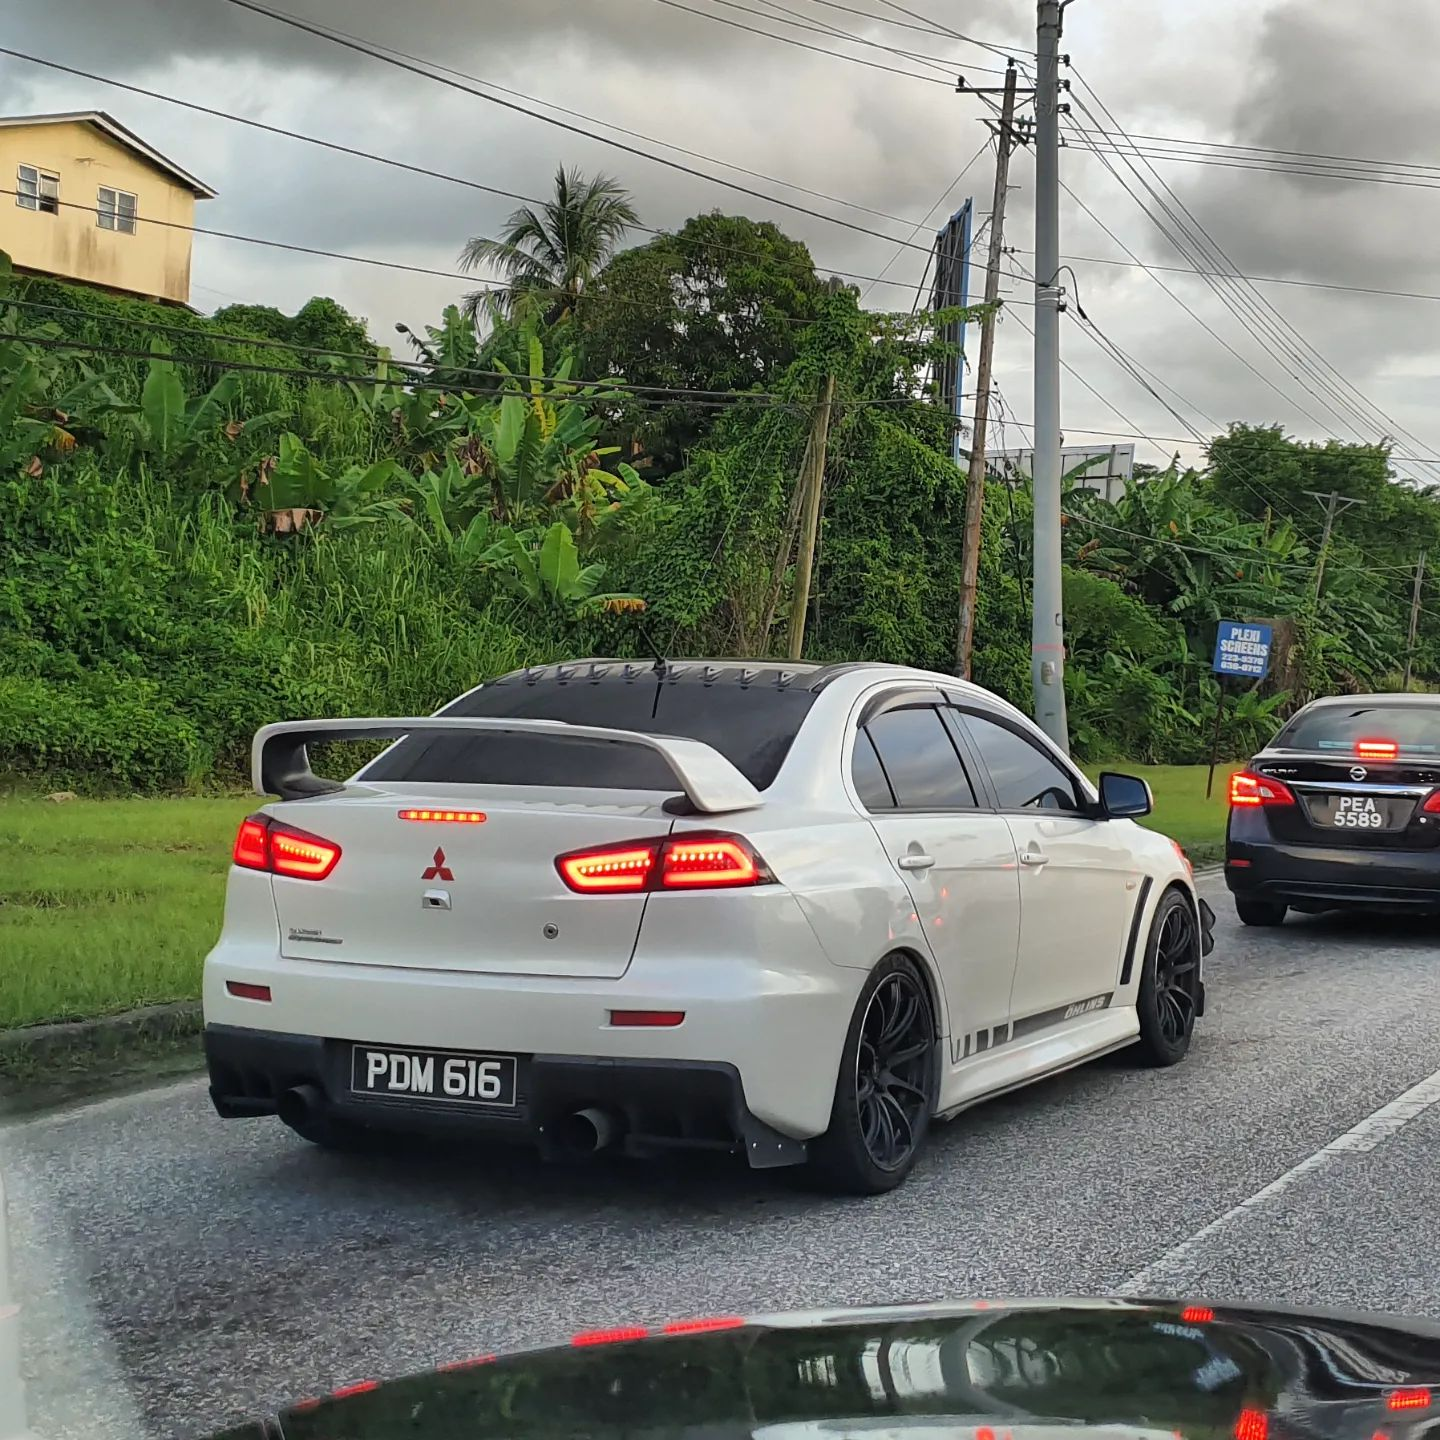License-Plate: (355, 1045, 516, 1090), (1329, 795, 1386, 826)
